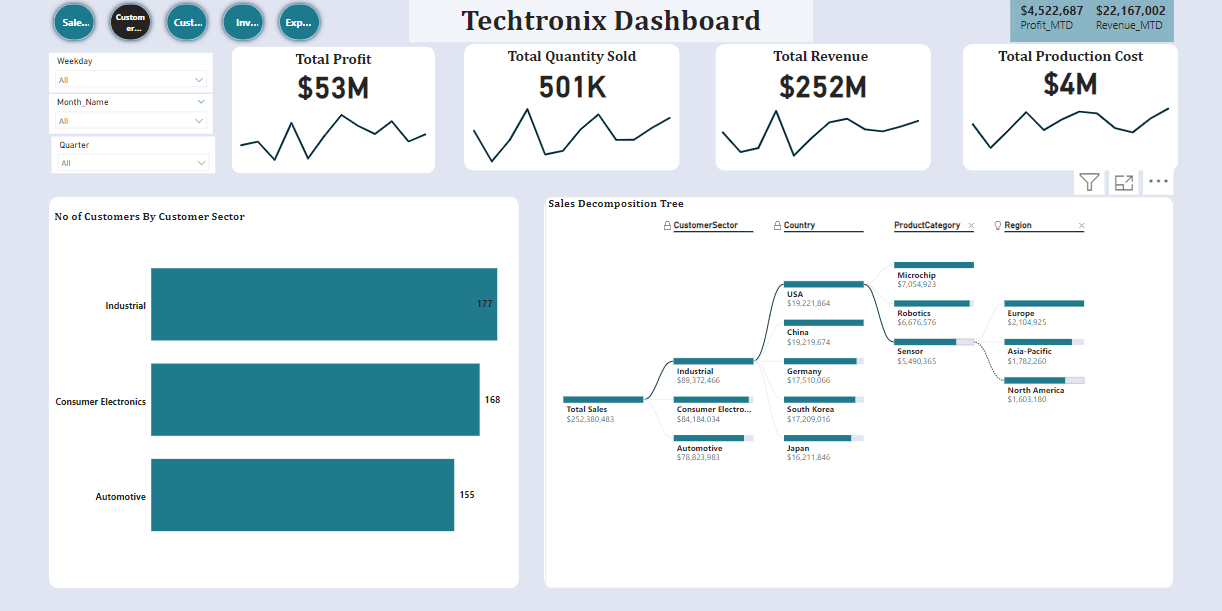

The dashboard page shown, as its layout file describes it:
{"tool":"powerbi","page":{"name":"Customer Insight","canvas":[2000,1000],"ordinal":1},"visuals":[{"type":"shape","box":[380,77.5,332.5,207.5],"z":0},{"type":"shape","box":[760.1,73.8,352.3,206.8],"z":1000},{"type":"shape","box":[1168.5,73.8,352.3,206.8],"z":2000},{"type":"shape","box":[1573,73.8,352.3,206.8],"z":3000},{"type":"card","fields":{"Values":["Measures (2).Total Profit"]},"box":[380,95,332.5,85],"z":4000},{"type":"lineChart","fields":{"Category":["Calendar_Dim.Month_Name"],"Y":["Sum(Techtonix Facts Table.Profit)"]},"box":[380,160,332.5,117.5],"z":5000},{"type":"textbox","box":[380,77.5,332.5,42.5],"z":6000},{"type":"card","fields":{"Values":["Measures (2).Total Quantity Sold"]},"box":[760.1,94.3,352.3,86.4],"z":7000},{"type":"textbox","box":[760.1,73.8,352.3,40.9],"z":8000},{"type":"lineChart","fields":{"Category":["Calendar_Dim.Month_Name"],"Y":["Sum(Techtonix Facts Table.QuantitySold)"]},"box":[760.1,155.7,352.3,118.2],"z":9000},{"type":"card","fields":{"Values":["Measures (2).Total Revenue"]},"box":[1168.5,94.3,352.3,86.4],"z":10000},{"type":"lineChart","fields":{"Category":["Calendar_Dim.Month_Name"],"Y":["Sum(Techtonix Facts Table.TotalSaleAmount)"]},"box":[1166.2,155.7,352.3,118.2],"z":11000},{"type":"textbox","box":[1166.2,73.8,352.3,40.9],"z":12000},{"type":"card","fields":{"Values":["Measures (2).Total Production Cost"]},"box":[1573,89.8,352.3,86.4],"z":13000},{"type":"lineChart","fields":{"Category":["Calendar_Dim.Month_Name"],"Y":["Sum(Techtonix Facts Table.ProductionCost)"]},"box":[1573,155.7,352.3,118.2],"z":14000},{"type":"textbox","box":[1573,73.8,352.3,40.9],"z":15000},{"type":"textbox","box":[670,0,660,70],"z":16000},{"type":"pageNavigator","box":[82.5,0,450,75],"z":17000},{"type":"slicer","fields":{"Values":["Calendar_Dim.Month_Name"]},"box":[82.5,155,267.5,65],"z":18000},{"type":"shape","box":[890,322.5,1027.5,640],"z":19000},{"type":"decompositionTreeVisual","title":"Sales Decomposition Tree","fields":{"Analyze":["Sum(Techtonix Facts Table.TotalSaleAmount)"],"ExplainBy":["Customer_Dim.CustomerSector","Location_Dim.Country","Product_Dim.ProductCategory","Location_Dim.Region"]},"box":[892.5,322.5,1025,640],"z":20000},{"type":"multiRowCard","fields":{"Values":["Measures (2).Profit_MTD","Measures (2).Revenue_MTD"]},"box":[1650,0,267.5,70],"z":21000},{"type":"slicer","fields":{"Values":["Calendar_Dim.Quarter"]},"box":[85,225,267.5,60],"z":22000},{"type":"shape","box":[82.5,322.5,767.5,640],"z":23000},{"type":"clusteredBarChart","title":"No of Customers By Customer Sector","fields":{"Category":["Customer_Dim.CustomerSector"],"Y":["CountNonNull(Customer_Dim.CustomerID)"]},"box":[85,342.5,765,600],"z":24000},{"type":"slicer","fields":{"Values":["Calendar_Dim.Weekday"]},"box":[82.5,87.5,267.5,65],"z":25000}]}

Visuals, with their boxes on the page's 2000x1000 design canvas (x1, y1, x2, y2). These are canvas units, not pixel positions in the 1222x611 screenshot, which may show the page scaled, cropped or inside an application window:
shape: 380:78:712:285
shape: 760:74:1112:281
shape: 1168:74:1521:281
shape: 1573:74:1925:281
card - Measures (2).Total Profit: 380:95:712:180
lineChart - Calendar_Dim.Month_Name x Sum(Techtonix Facts Table.Profit): 380:160:712:278
textbox: 380:78:712:120
card - Measures (2).Total Quantity Sold: 760:94:1112:181
textbox: 760:74:1112:115
lineChart - Calendar_Dim.Month_Name x Sum(Techtonix Facts Table.QuantitySold): 760:156:1112:274
card - Measures (2).Total Revenue: 1168:94:1521:181
lineChart - Calendar_Dim.Month_Name x Sum(Techtonix Facts Table.TotalSaleAmount): 1166:156:1518:274
textbox: 1166:74:1518:115
card - Measures (2).Total Production Cost: 1573:90:1925:176
lineChart - Calendar_Dim.Month_Name x Sum(Techtonix Facts Table.ProductionCost): 1573:156:1925:274
textbox: 1573:74:1925:115
textbox: 670:0:1330:70
pageNavigator: 82:0:532:75
slicer - Calendar_Dim.Month_Name: 82:155:350:220
shape: 890:322:1918:962
"Sales Decomposition Tree" decompositionTreeVisual: 892:322:1918:962
multiRowCard - Measures (2).Profit_MTD x Measures (2).Revenue_MTD: 1650:0:1918:70
slicer - Calendar_Dim.Quarter: 85:225:352:285
shape: 82:322:850:962
"No of Customers By Customer Sector" clusteredBarChart: 85:342:850:942
slicer - Calendar_Dim.Weekday: 82:88:350:152
